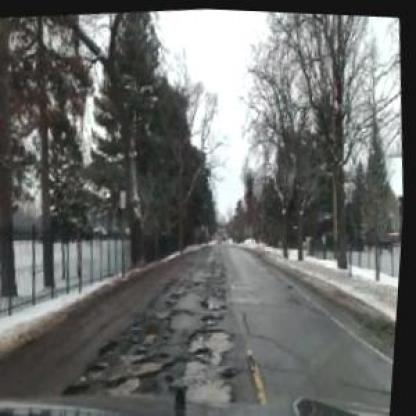pothole: (66, 375, 96, 400), (102, 334, 124, 358), (141, 346, 175, 361), (177, 382, 193, 404), (205, 308, 229, 322), (198, 341, 215, 358)
